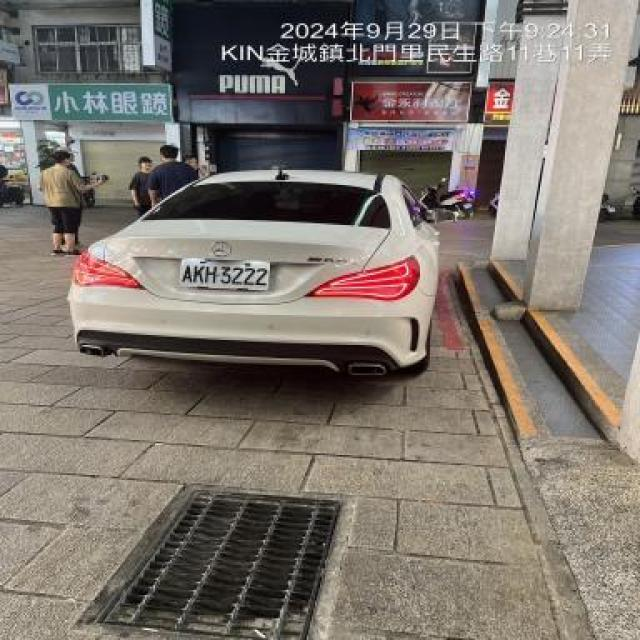Legalparking: (72, 167, 438, 375)
